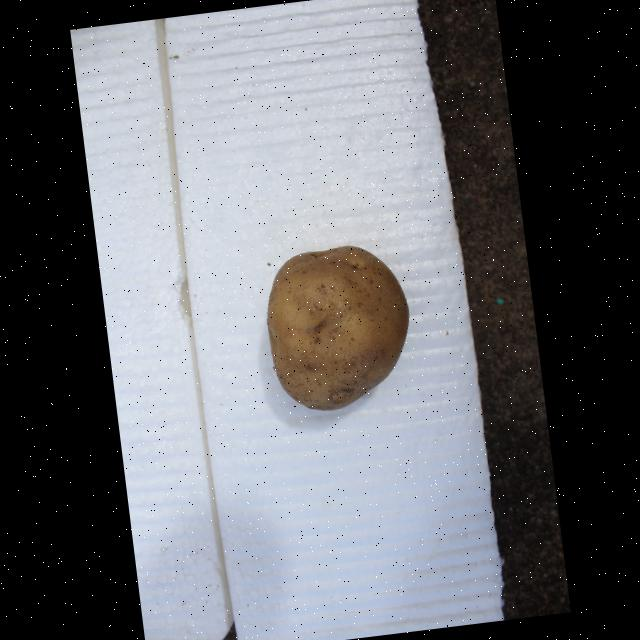Damaged potato: (214, 220, 390, 408)
